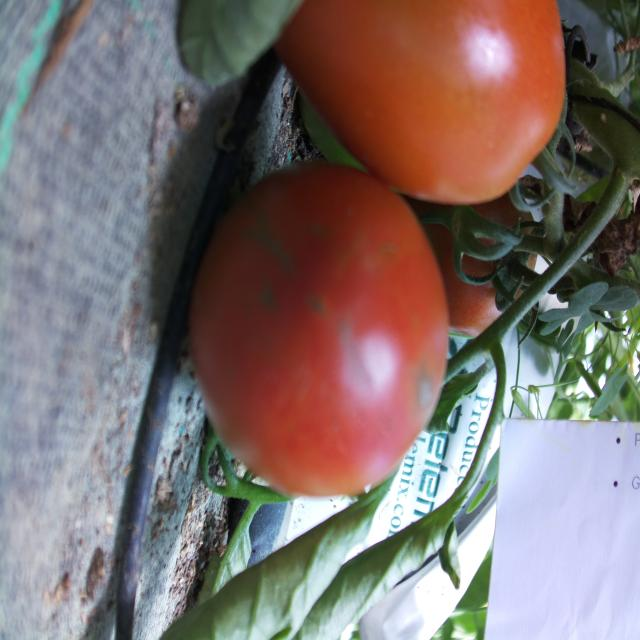kirmizi: (219, 192, 519, 492)
